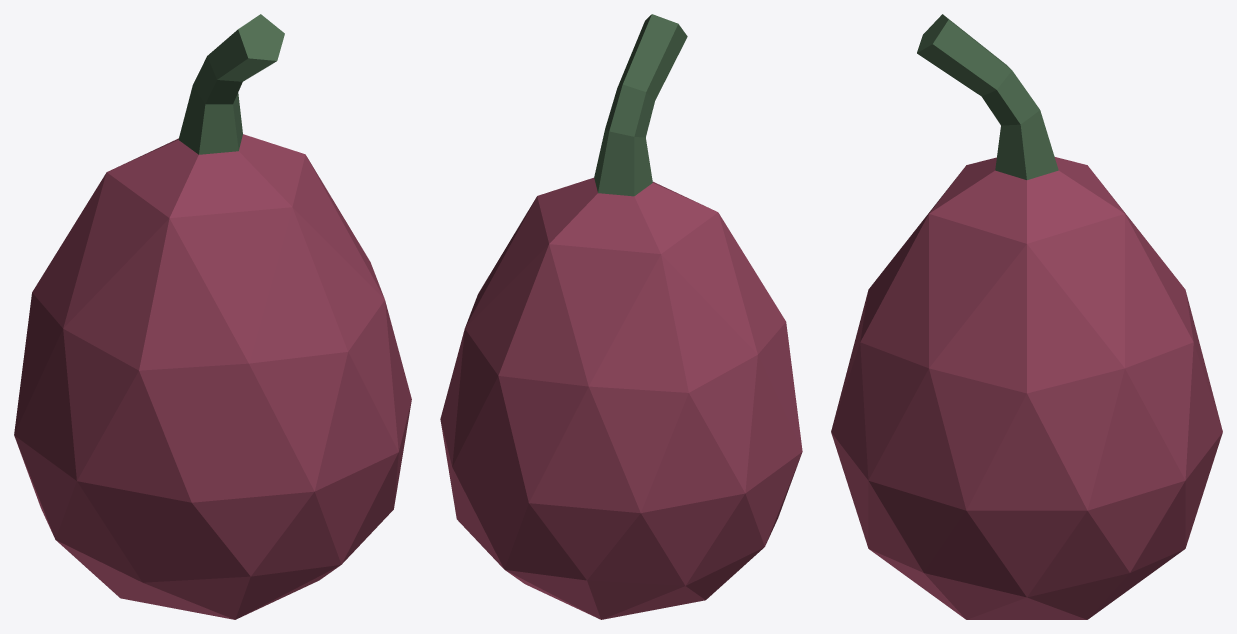
Rendered from Fig.fbx.
3 renders of one model, left to right at view 1: azimuth 30°, elevation 25°; view 2: azimuth 150°, elevation 25°; view 3: azimuth 270°, elevation 25°, orthographic. The views are drawn at different scales.
Parts seen in each view (by area): view 1: Fig; view 2: Fig; view 3: Fig.
Part boxes in pixels (<box>): Fig: <box>14,14,411,619</box>; Fig: <box>440,14,802,619</box>; Fig: <box>831,14,1222,619</box>.
Bounding box in the file's own units: 0.3424 × 0.6029 × 0.36.
